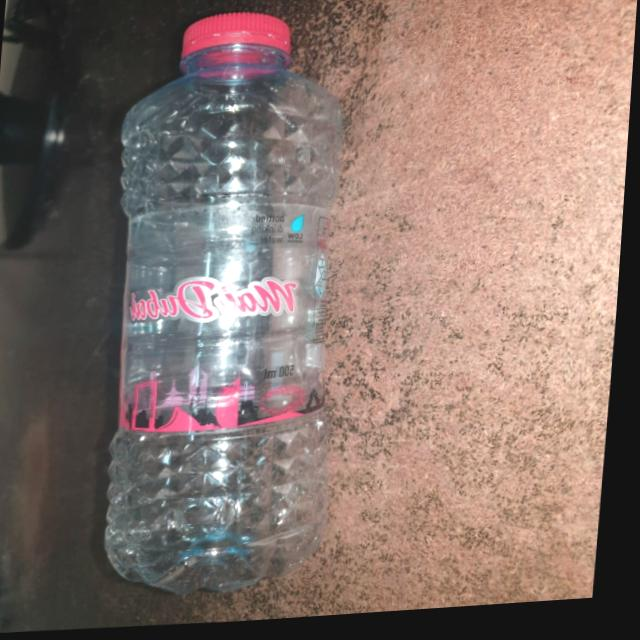anorganik: (63, 0, 400, 621)
